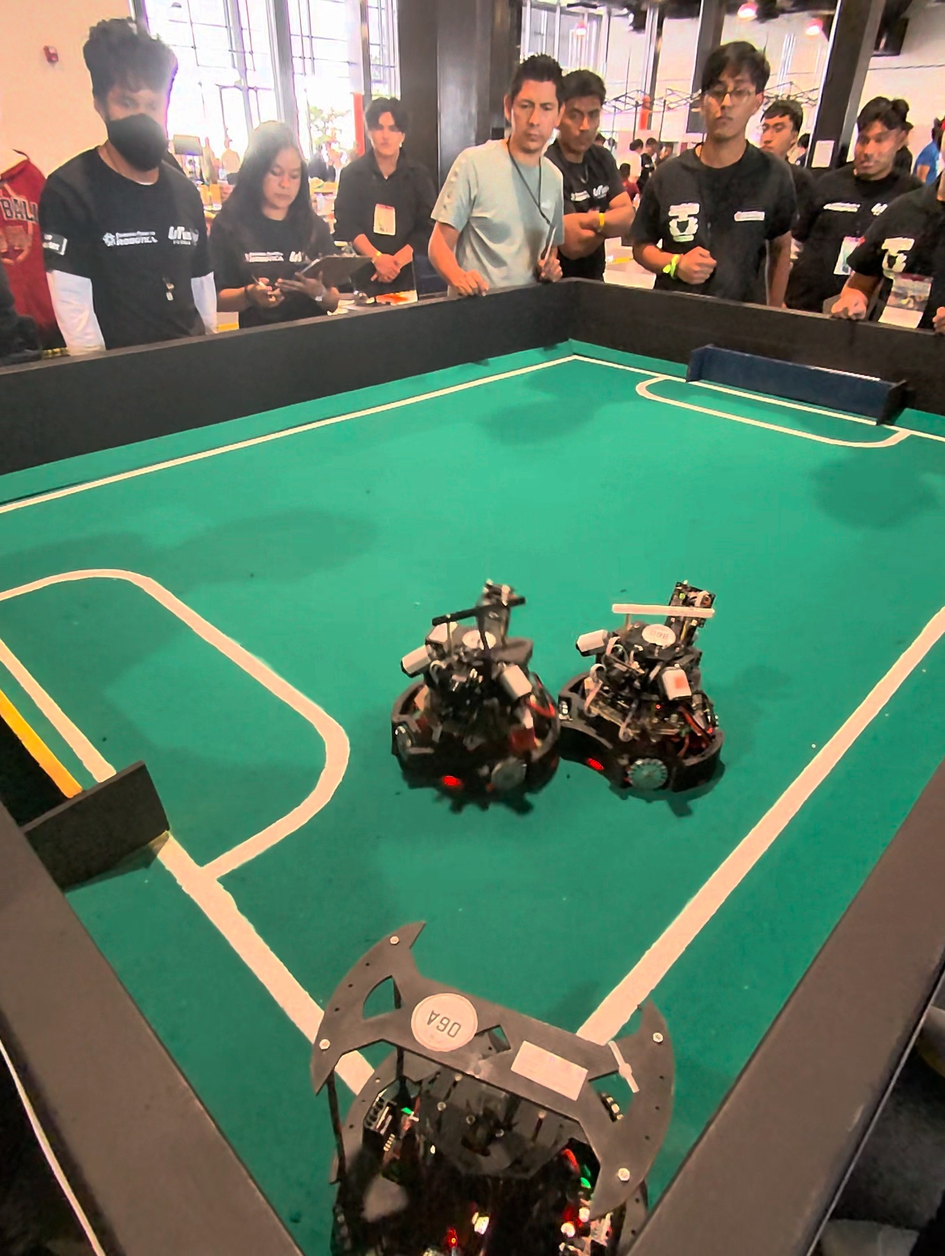Robot: (269, 924, 736, 1256), (389, 585, 563, 828), (563, 570, 725, 815)
